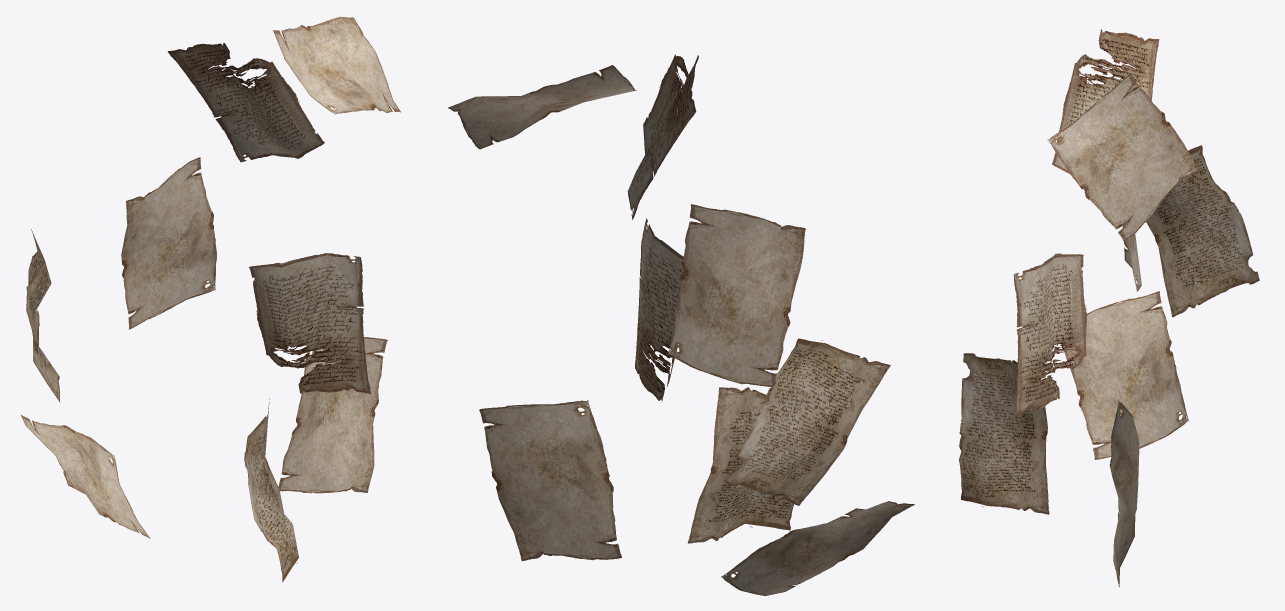
The model's file is parchments.fbx.
3 views of the same model, side by side, from view 1: azimuth 30°, elevation 25°; view 2: azimuth 150°, elevation 25°; view 3: azimuth 270°, elevation 25° (orthographic). The views are drawn at different scales.
Visible parts, largest first — view 1: pPlane11; view 2: pPlane11; view 3: pPlane11.
Boxes of the visible parts, x1=… form: pPlane11: x1=21, y1=16, x2=400, y2=582; pPlane11: x1=448, y1=54, x2=914, y2=595; pPlane11: x1=959, y1=29, x2=1259, y2=587.
Bounding box in the file's own units: 2.64 × 3.45 × 1.91.
